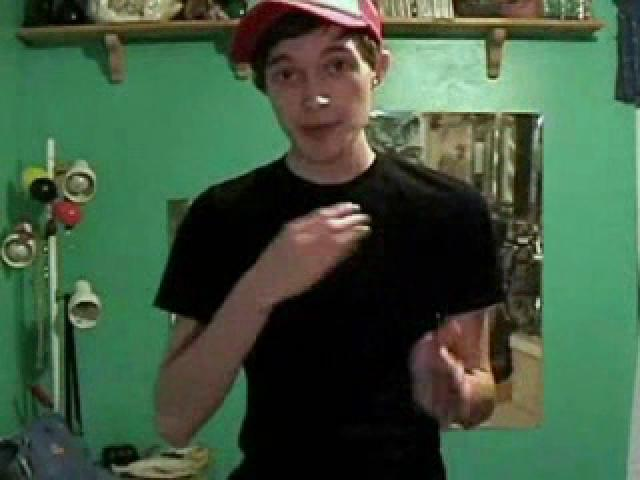F: (152, 3, 502, 476)
